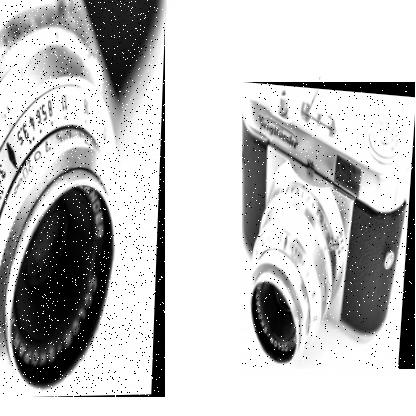Camera: (1, 1, 167, 399), (243, 83, 416, 371)
